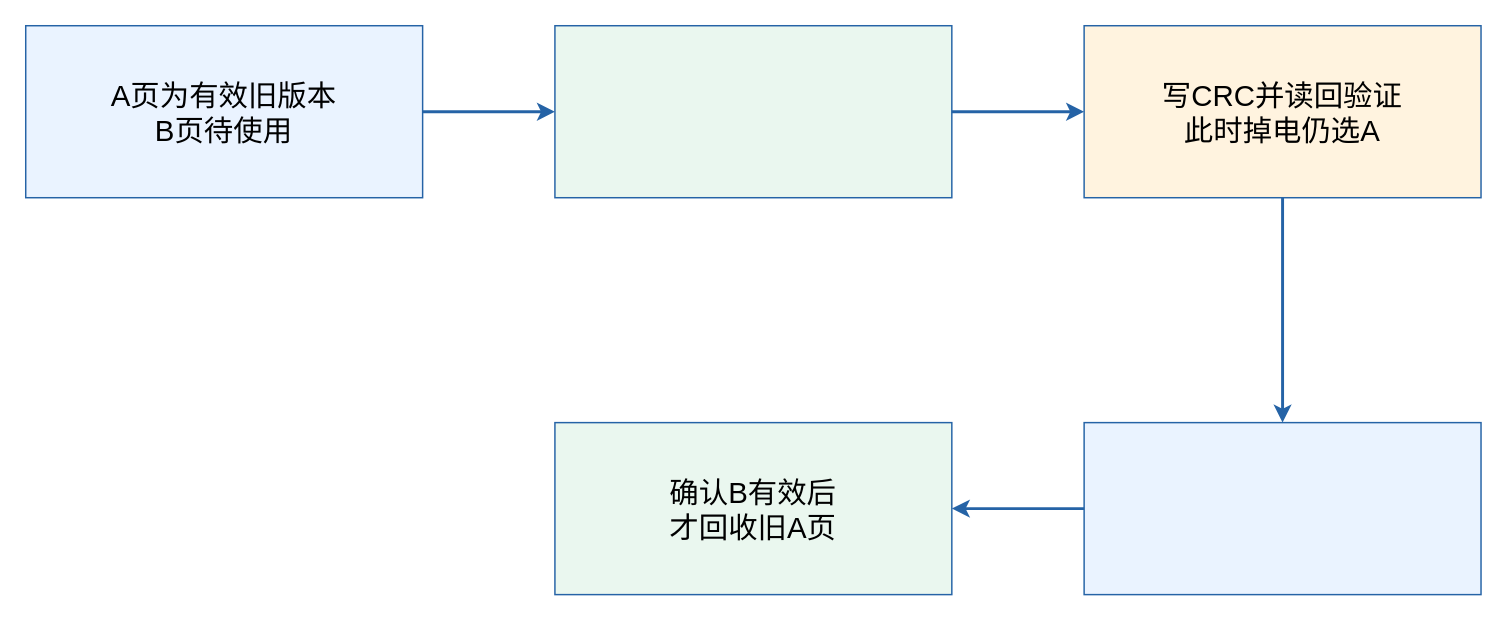
Image size: 1507x620. Some labels were removed from this diagram. The shapes that lost their labels are listed below. From the top down, each one's centre as x and y in pixels, then its label:
At (752,111): "擦B并写新载荷 此时掉电选A".
At (1282,508): "最后写提交标记 启动校验后可选B".
